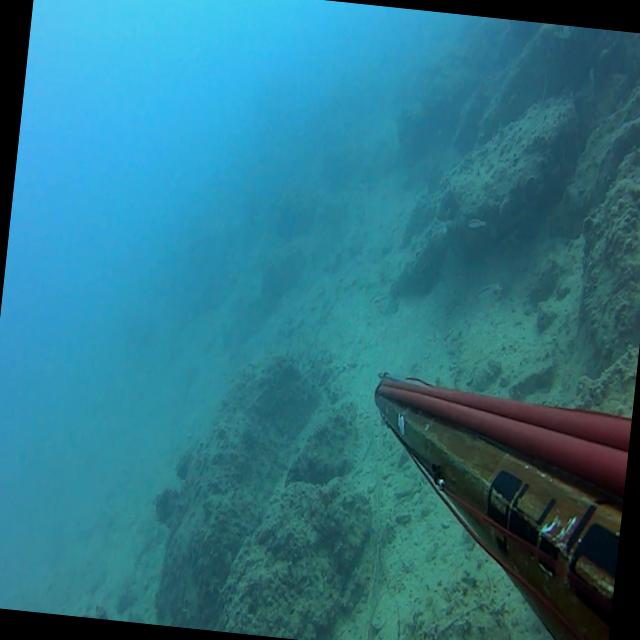Balon Baligi: (476, 281, 496, 299), (466, 215, 484, 228)
